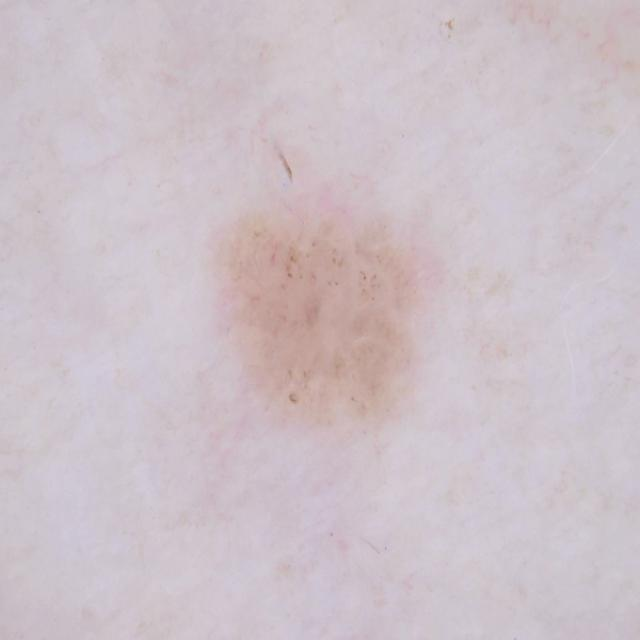Skin-Cancer Basal cell carcinoma: (98, 79, 574, 538)
